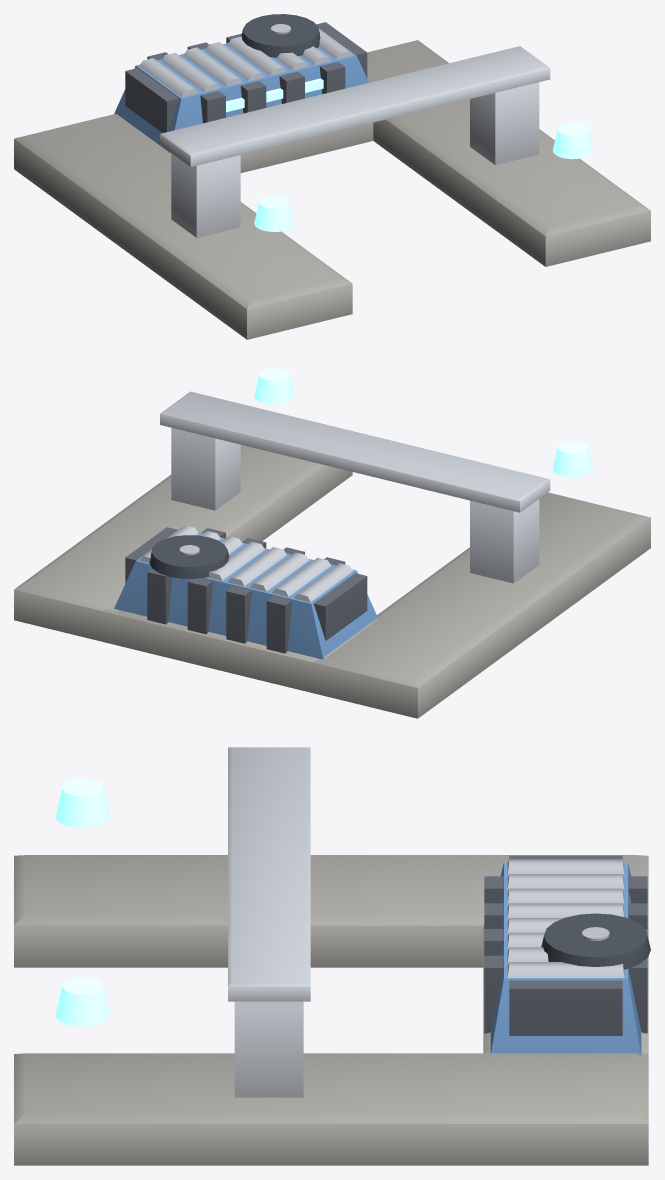
The model's file is gayard.glb.
3 views of the same model, one above another, from view 1: azimuth 30°, elevation 25°; view 2: azimuth 150°, elevation 25°; view 3: azimuth 270°, elevation 25° (orthographic). The views are drawn at different scales.
Visible parts, largest first — view 1: Hull; view 2: Hull; view 3: Hull.
Part boxes in pixels (x1,y1,x2,y2): Hull: [14, 14, 650, 339]; Hull: [14, 368, 650, 718]; Hull: [14, 747, 650, 1165].
Size of the model in its own units: 6.62 by 1.92 by 6.65.
